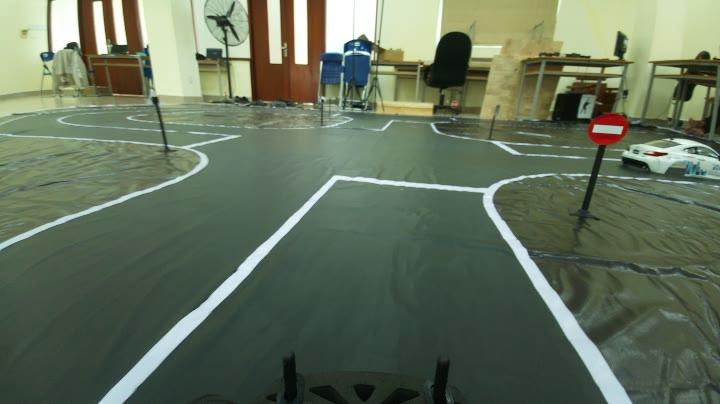no_entry: (578, 110, 624, 146)
